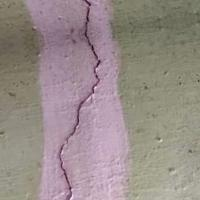crack: (36, 0, 118, 199)
